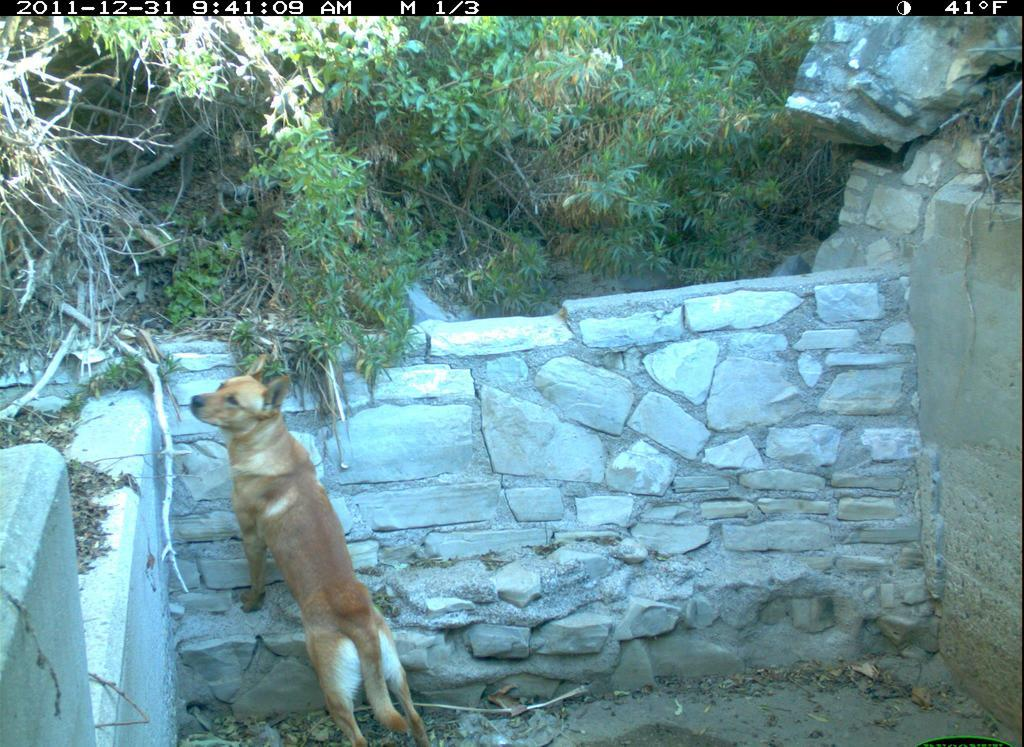dog: (189, 347, 442, 747)
